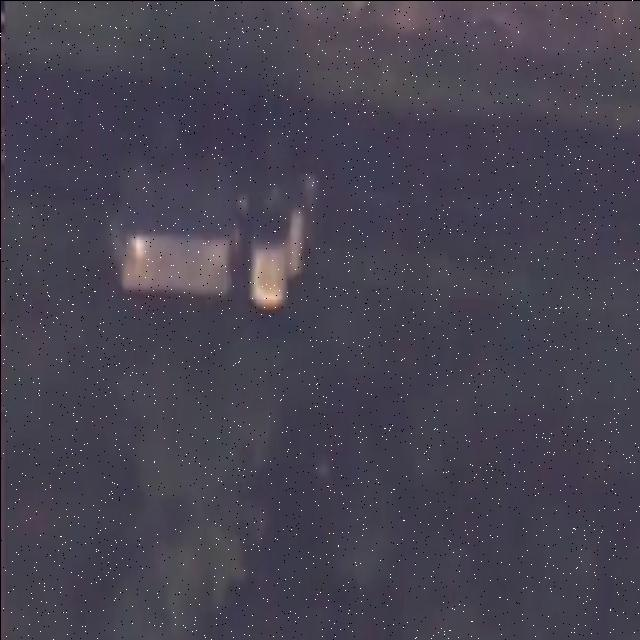TRUCK: (112, 131, 326, 327)
